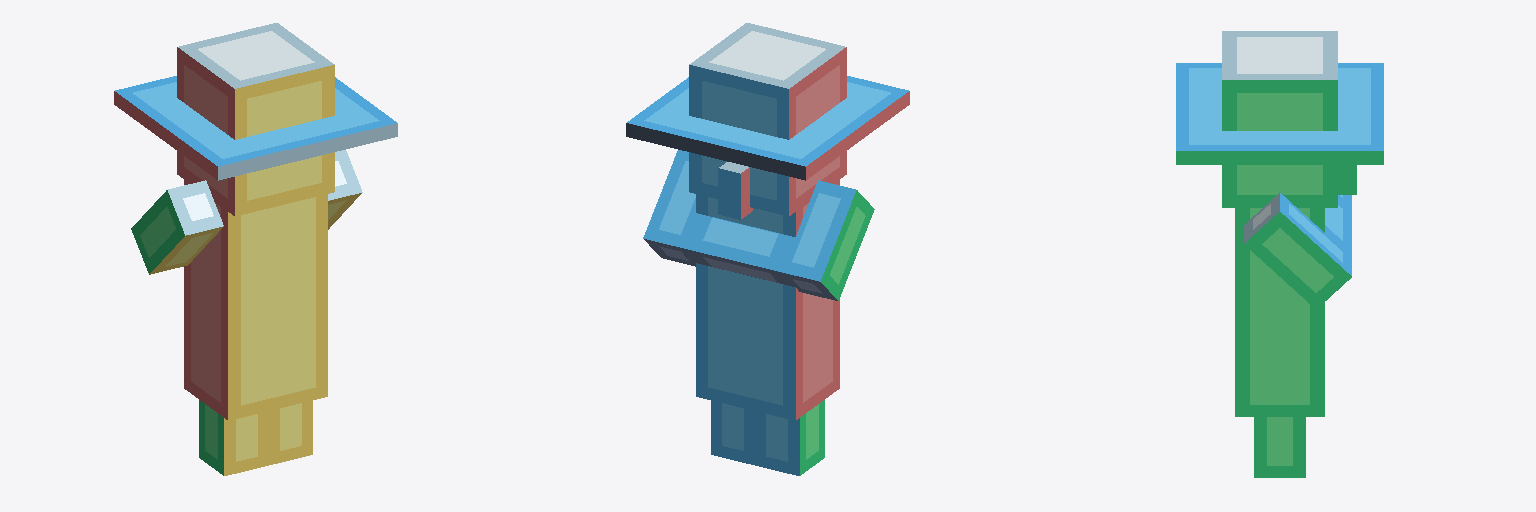
3 views of the same model, side by side, from view 1: azimuth 30°, elevation 25°; view 2: azimuth 150°, elevation 25°; view 3: azimuth 270°, elevation 25° (orthographic).
Parts seen in each view (by area): view 1: body, helmet, brim, arms, leg1, leg0; view 2: body, helmet, arms, brim, leg1, leg0, nose; view 3: helmet, body, brim, arms, leg0, nose.
Boxes of the visible parts, box(x1,y1,x2,y2) form: body: box(184, 168, 327, 420); helmet: box(177, 23, 334, 216); brim: box(114, 76, 397, 180); arms: box(131, 150, 362, 274); leg1: box(199, 400, 268, 475); leg0: box(269, 401, 312, 464); body: box(696, 168, 839, 420); helmet: box(689, 23, 846, 216); arms: box(643, 150, 874, 300); brim: box(626, 76, 909, 180); leg1: box(755, 400, 824, 475); leg0: box(711, 401, 754, 464); nose: box(718, 162, 752, 219); helmet: box(1222, 31, 1337, 207); body: box(1235, 196, 1324, 416); brim: box(1176, 63, 1383, 164); arms: box(1244, 193, 1351, 309); leg0: box(1254, 417, 1305, 477); nose: box(1338, 165, 1356, 194).
Size of the model in its own units: 1.01 by 2.16 by 1.01.
Materials: 1 (1 with a texture image).